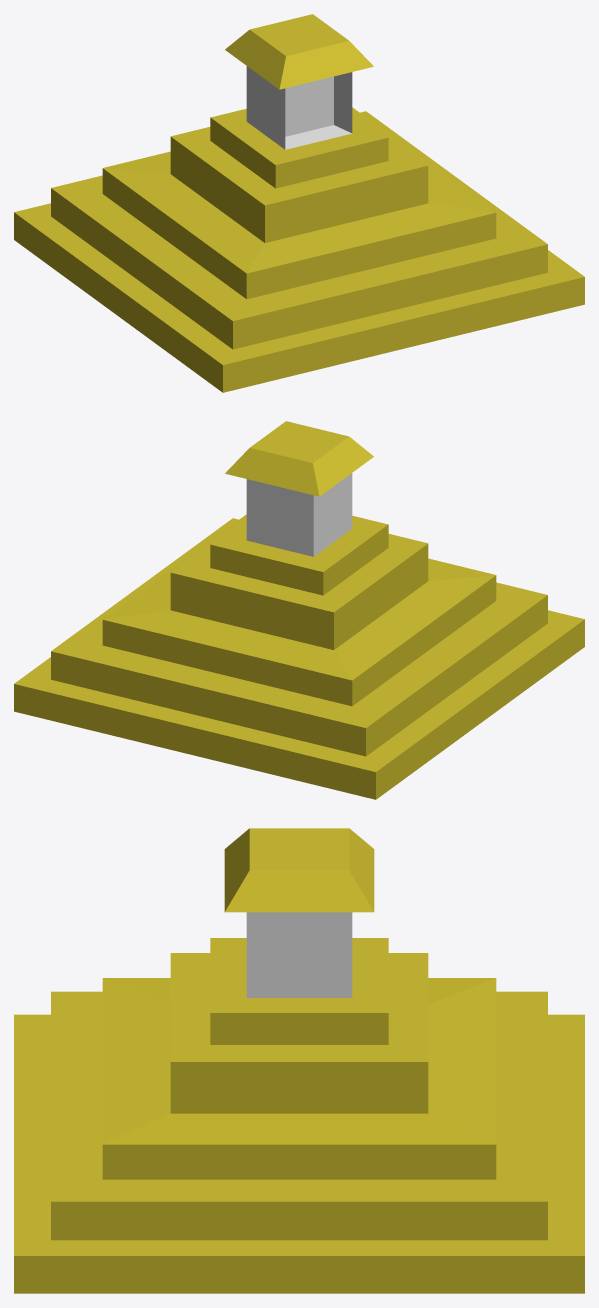
Rendered from temple2.fbx.
3 views of the same model, one above another, from view 1: azimuth 30°, elevation 25°; view 2: azimuth 150°, elevation 25°; view 3: azimuth 270°, elevation 25° (orthographic). The views are drawn at different scales.
Visible parts, largest first — view 1: Cube; view 2: Cube; view 3: Cube.
Part boxes in pixels (<box>): Cube: <box>14,14,584,392</box>; Cube: <box>14,421,584,799</box>; Cube: <box>14,828,584,1293</box>.
Bounding box in the file's own units: 851 × 533 × 851.
